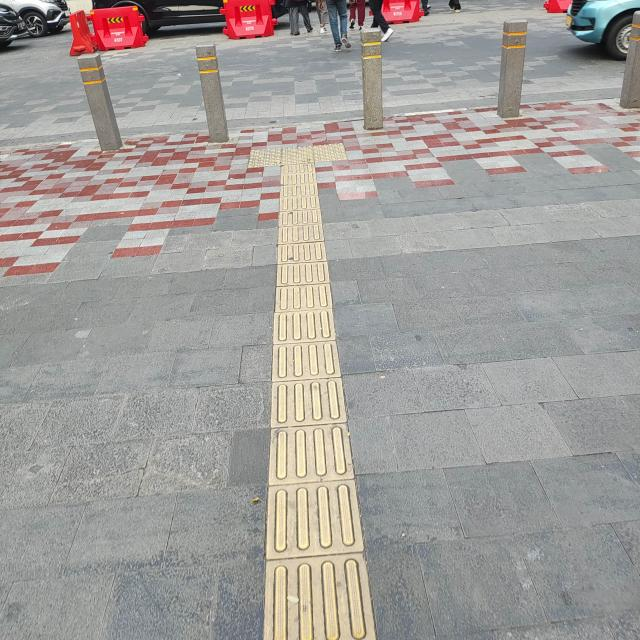lurus: (258, 140, 359, 640)
